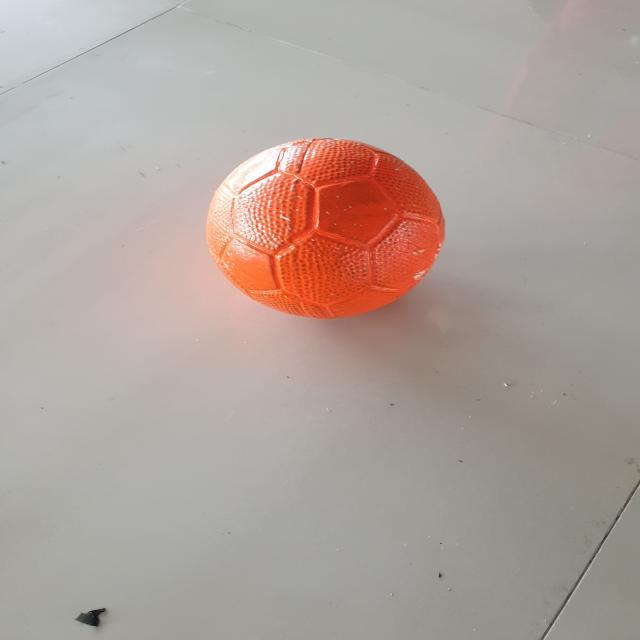bola: (198, 127, 451, 325)
